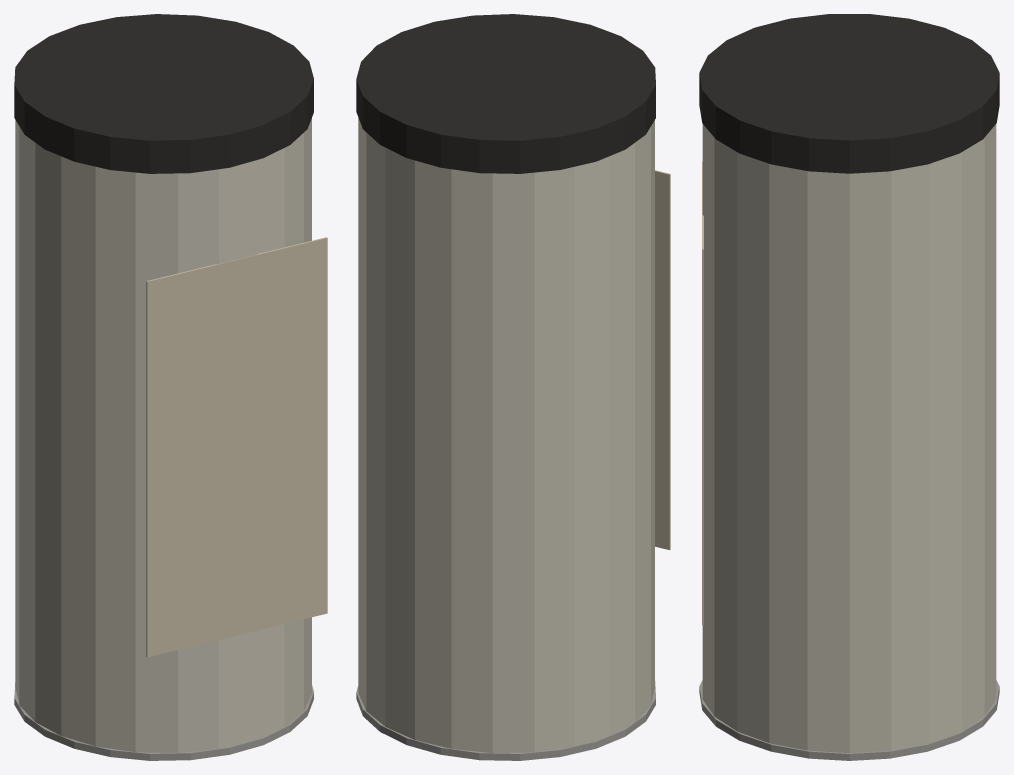
Rendered from pantry-oat-canister.glb.
3 views of the same model, side by side, from view 1: azimuth 30°, elevation 25°; view 2: azimuth 150°, elevation 25°; view 3: azimuth 270°, elevation 25° (orthographic).
Visible parts, largest first — view 1: enamel, paper, plastic-dark, brushed; view 2: enamel, plastic-dark, paper, brushed; view 3: enamel, plastic-dark, brushed, paper.
Boxes of the visible parts, x1,y1,x2,y2 form: enamel: [15, 118, 311, 753]; paper: [146, 237, 327, 657]; plastic-dark: [14, 14, 313, 173]; brushed: [14, 683, 313, 760]; enamel: [358, 118, 654, 753]; plastic-dark: [356, 14, 655, 173]; paper: [655, 170, 670, 549]; brushed: [356, 681, 655, 760]; enamel: [702, 124, 996, 753]; plastic-dark: [699, 14, 999, 173]; brushed: [699, 680, 999, 760]; paper: [702, 161, 703, 625].
Bounding box in the file's own units: 0.1553 × 0.355 × 0.1556.
